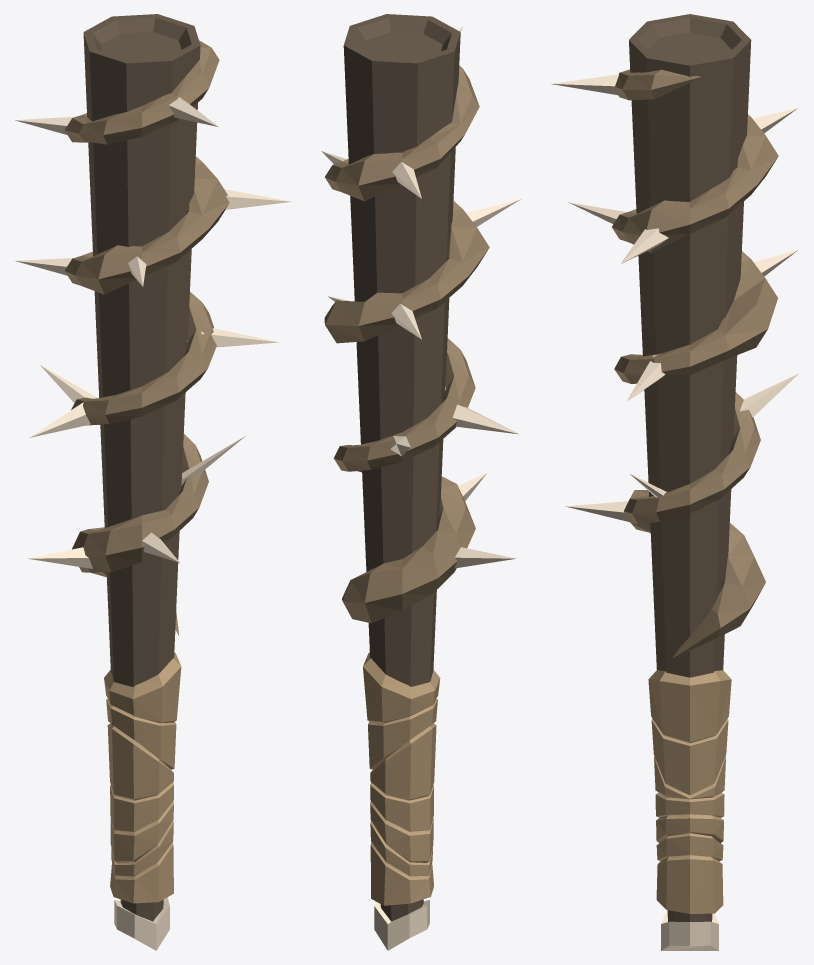
File: hammer_hammer_23.glb
The picture shows the model from 3 angles, left to right: view 1: azimuth 30°, elevation 25°; view 2: azimuth 150°, elevation 25°; view 3: azimuth 270°, elevation 25°; orthographic projection.
Parts seen in each view (by area): view 1: hammer_23; view 2: hammer_23; view 3: hammer_23.
Part boxes in pixels (x1=…): hammer_23: x1=15, y1=14, x2=292, y2=950; hammer_23: x1=321, y1=14, x2=520, y2=950; hammer_23: x1=551, y1=14, x2=798, y2=950.
Bounding box in the file's own units: 20.94 × 77.91 × 19.35.
1 material, 1 textured.
